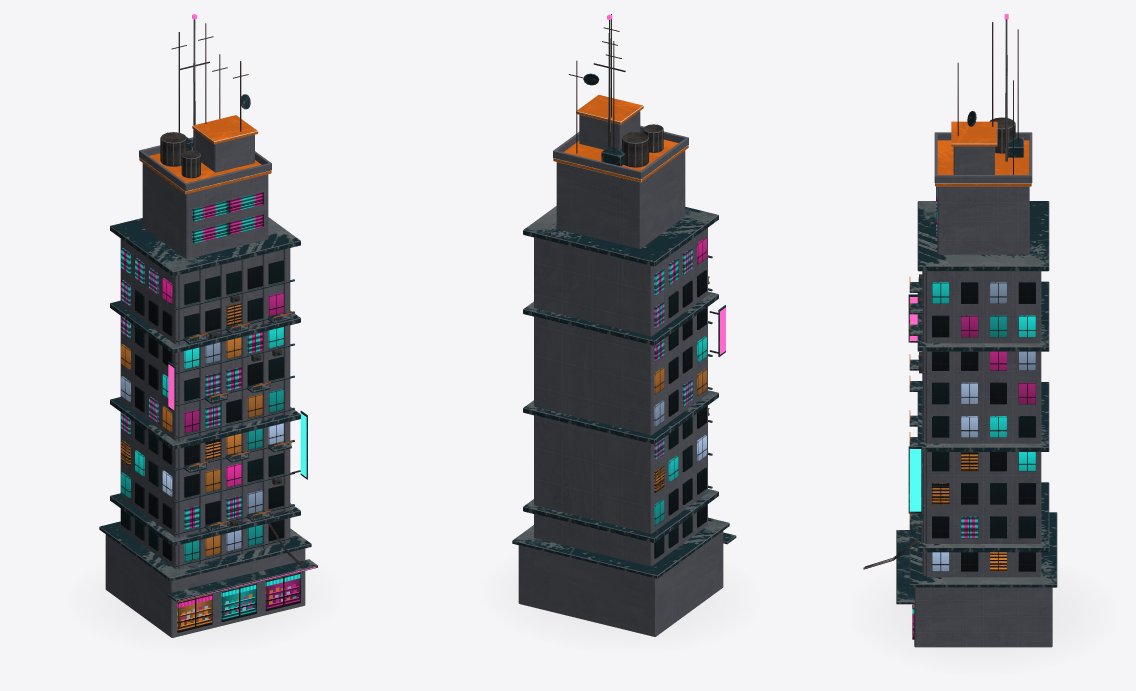
The model's file is bg_building.glb.
The picture shows the model from 3 angles, left to right: view 1: azimuth 30°, elevation 25°; view 2: azimuth 150°, elevation 25°; view 3: azimuth 270°, elevation 25°; orthographic projection. The views are drawn at different scales.
Parts seen in each view (by area): view 1: bg_building_LOD0, bg_building_contact; view 2: bg_building_LOD0, bg_building_contact; view 3: bg_building_LOD0, bg_building_contact.
Part boxes in pixels (<box>): bg_building_LOD0: <box>99,14,317,637</box>; bg_building_contact: <box>78,569,332,649</box>; bg_building_LOD0: <box>512,14,736,636</box>; bg_building_contact: <box>491,561,750,648</box>; bg_building_LOD0: <box>863,14,1057,647</box>; bg_building_contact: <box>859,568,1107,670</box>.
Size of what is drawn, in the model's own units: 26 by 57.27 by 24.
7 materials, 5 textured.
